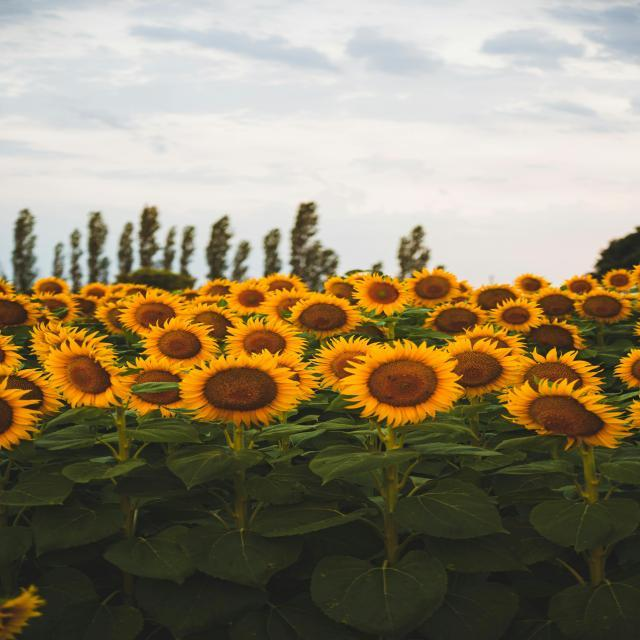sunflower: (338, 338, 466, 428), (178, 348, 302, 428), (498, 378, 632, 450), (44, 338, 134, 408), (508, 346, 606, 396), (441, 338, 524, 397), (138, 316, 220, 368), (122, 355, 188, 417), (252, 348, 322, 406), (309, 334, 378, 391), (286, 292, 362, 340), (224, 316, 308, 358), (0, 366, 65, 416), (116, 290, 186, 334), (34, 327, 112, 363), (0, 384, 42, 450), (351, 272, 412, 316), (0, 584, 45, 640), (402, 266, 460, 308), (452, 324, 528, 356), (180, 302, 242, 339), (422, 300, 488, 334), (573, 288, 633, 324), (488, 296, 544, 332), (526, 317, 586, 350), (27, 320, 79, 357), (259, 287, 313, 319), (31, 291, 81, 324), (226, 279, 270, 315), (531, 286, 578, 319), (0, 292, 41, 328), (469, 284, 521, 310), (338, 316, 389, 342), (94, 298, 128, 335), (612, 348, 640, 388), (64, 293, 102, 322), (258, 272, 306, 293), (0, 334, 25, 371), (601, 268, 637, 291), (31, 276, 70, 297), (198, 278, 236, 298), (514, 273, 550, 294), (562, 274, 598, 294), (324, 276, 354, 300), (80, 282, 110, 301), (189, 294, 224, 310), (623, 399, 640, 431), (621, 292, 640, 314), (110, 282, 134, 298), (173, 288, 200, 302), (115, 284, 146, 296), (443, 294, 469, 307), (348, 271, 371, 285), (453, 279, 473, 294), (0, 278, 15, 296), (146, 286, 168, 298), (629, 264, 639, 288), (631, 317, 640, 342)
